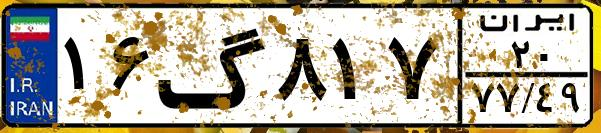0: (537, 27, 568, 80)
1: (330, 28, 385, 110), (57, 26, 110, 100)
2: (508, 27, 537, 80)
4: (535, 70, 560, 125)
6: (110, 28, 156, 98)
7: (385, 28, 445, 110), (470, 70, 495, 125), (495, 70, 520, 125)
8: (270, 28, 330, 110)
9: (560, 70, 590, 125)
گ: (156, 12, 270, 120)
